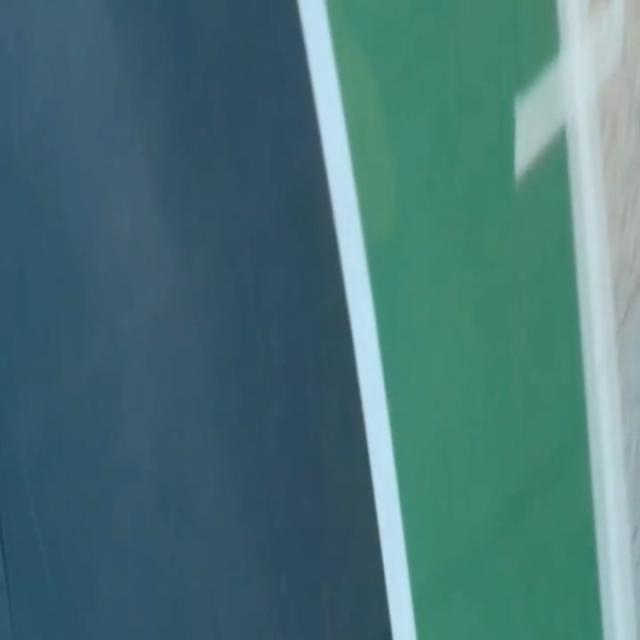right: (298, 0, 416, 639)
